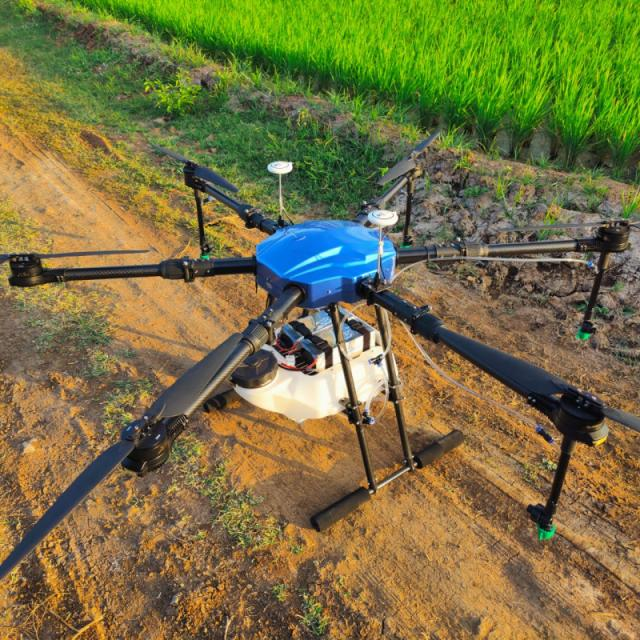drone: (0, 130, 640, 556)
